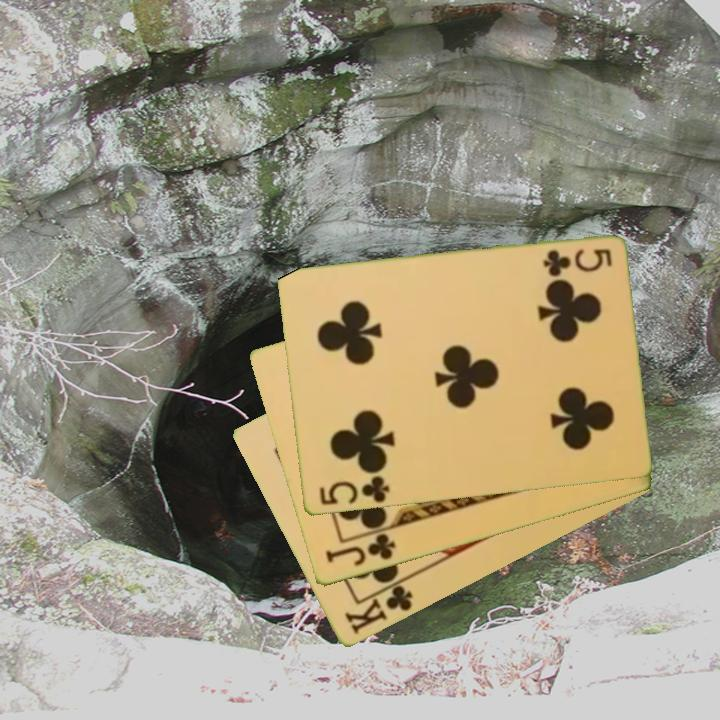5c: (315, 473, 392, 509), (539, 245, 615, 278)
Jc: (321, 530, 398, 569)
Kc: (340, 575, 416, 638)
